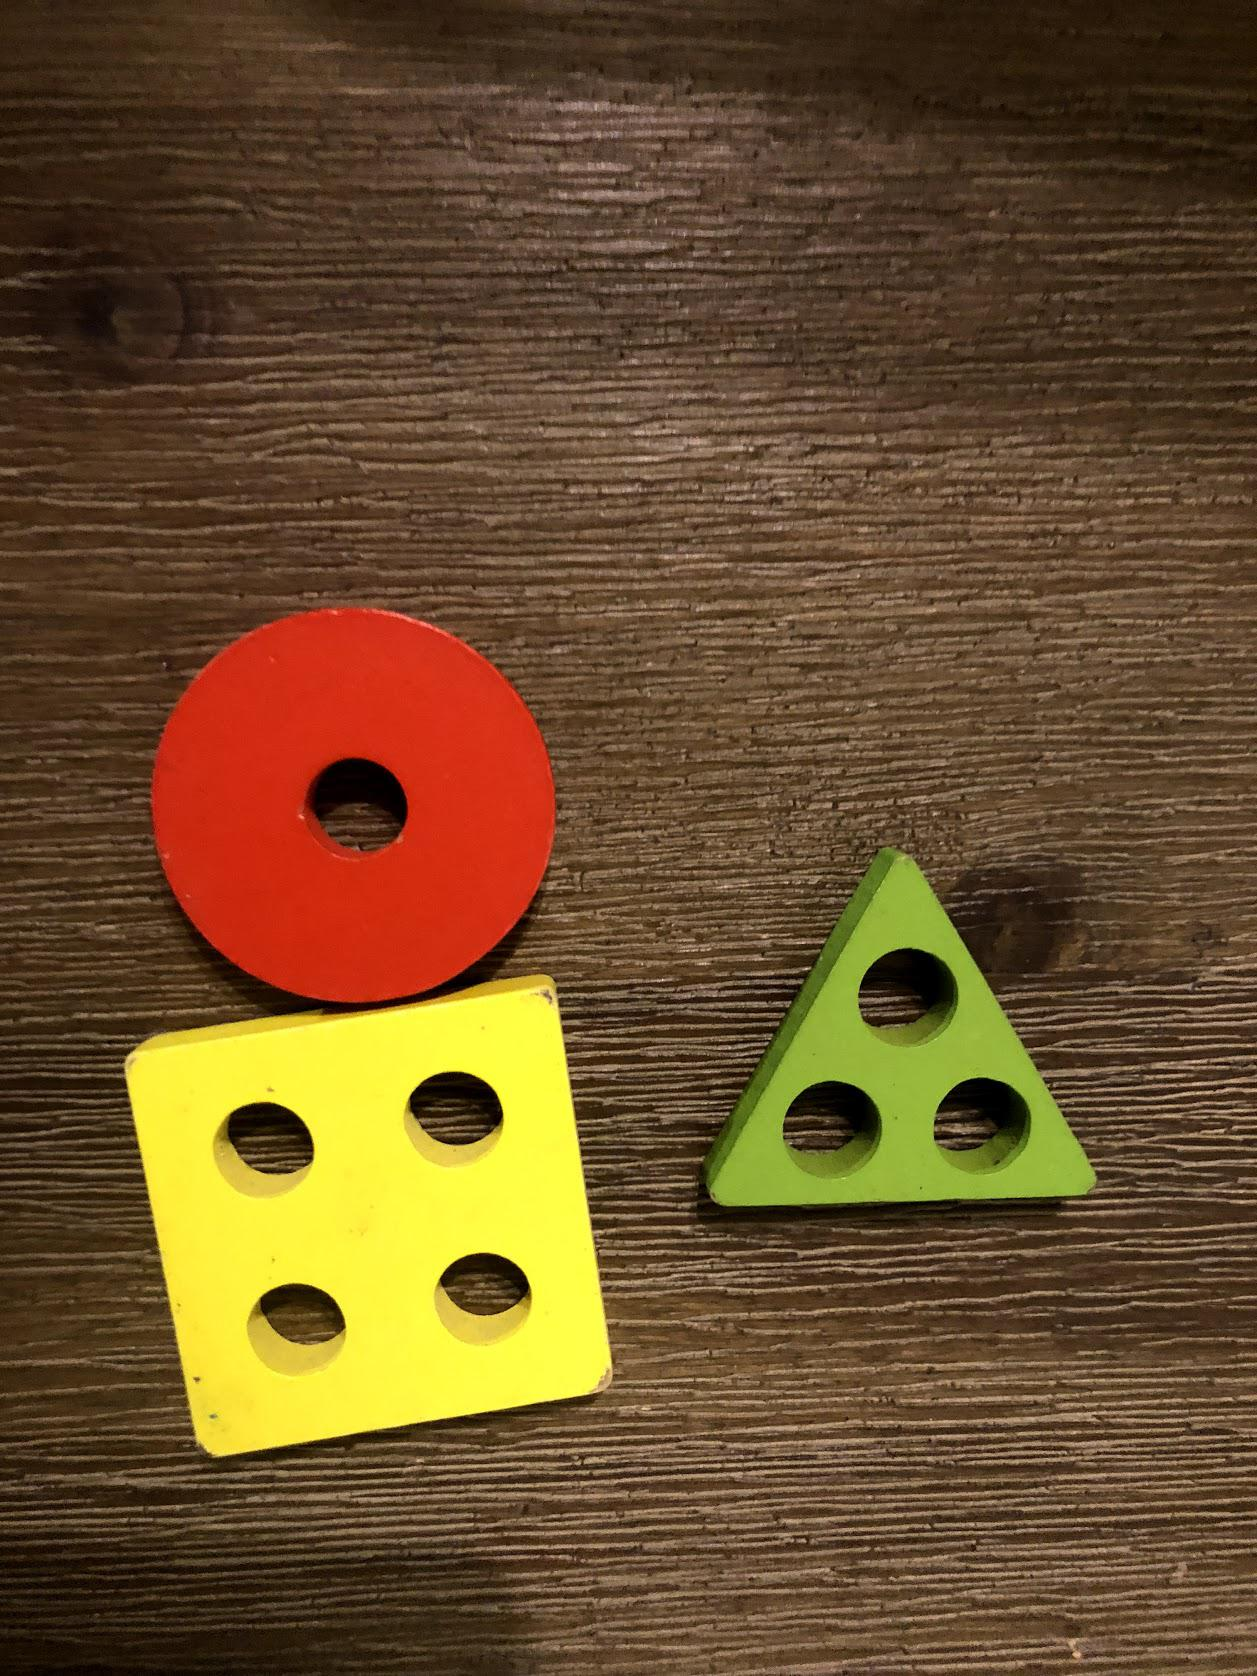Circle: (143, 606, 565, 996)
Square: (125, 1039, 617, 1452)
Triangle: (709, 854, 1099, 1206)
